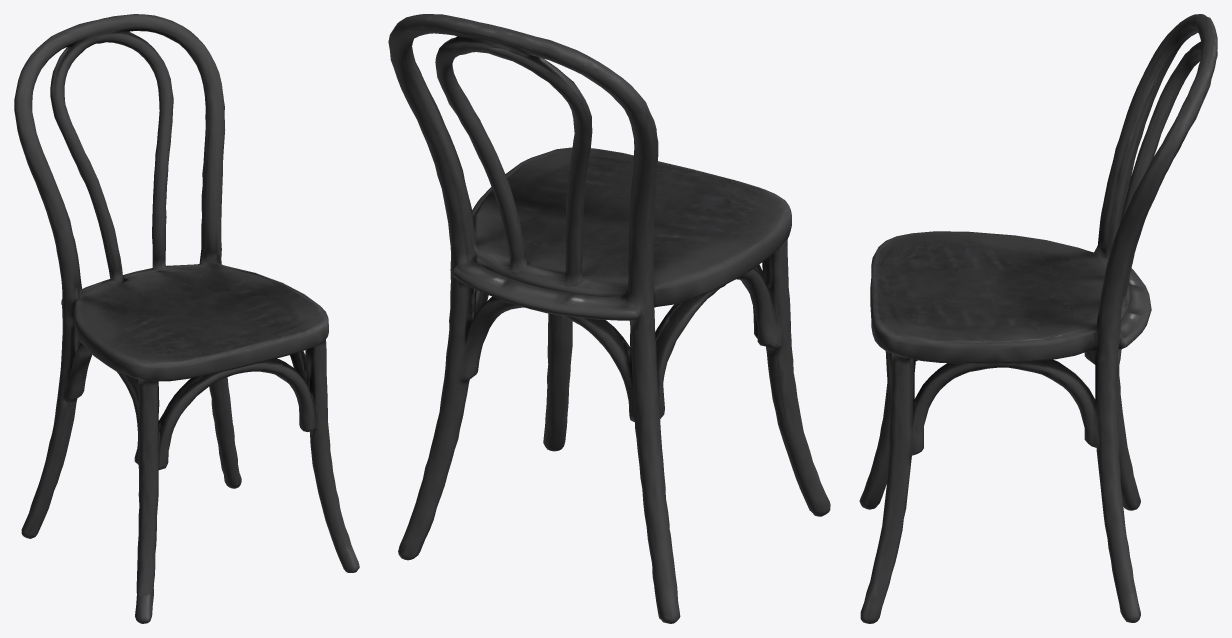
The model's file is Chair_Bentwood_Black_0320032145_texture.glb.
3 renders of one model, left to right at view 1: azimuth 30°, elevation 25°; view 2: azimuth 150°, elevation 25°; view 3: azimuth 270°, elevation 25°, orthographic. The views are drawn at different scales.
Parts seen in each view (by area): view 1: Mesh_0.004; view 2: Mesh_0.004; view 3: Mesh_0.004.
Boxes of the visible parts, left/top/right/bottom form: Mesh_0.004: left=14, top=14, right=359, bottom=623; Mesh_0.004: left=388, top=14, right=830, bottom=623; Mesh_0.004: left=859, top=14, right=1217, bottom=623.
Size of the model in its own units: 0.4563 by 0.9144 by 0.5614.
Materials: 1 (1 with a texture image).
